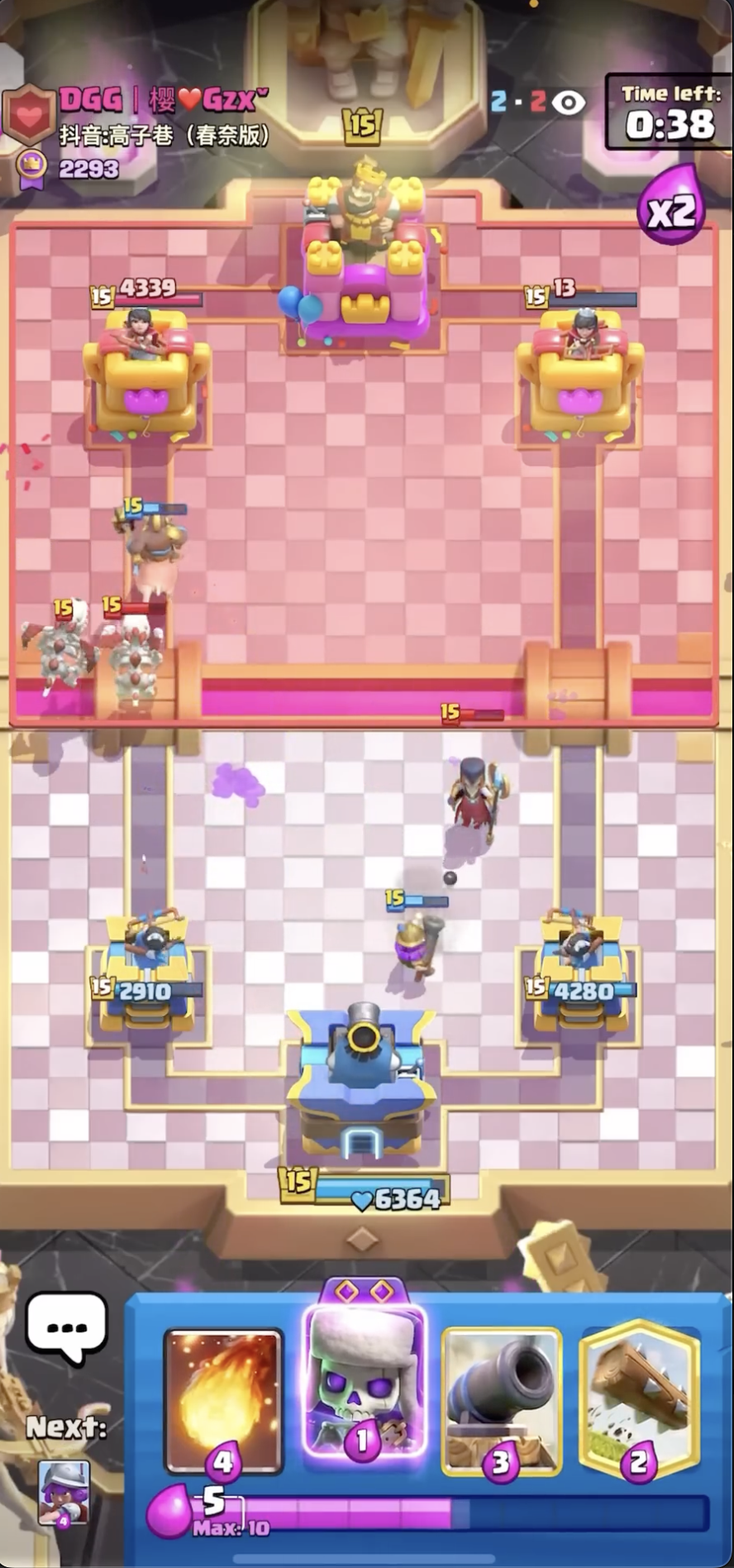hog_rider: (108, 488, 191, 611)
musketeer: (370, 871, 460, 986)
